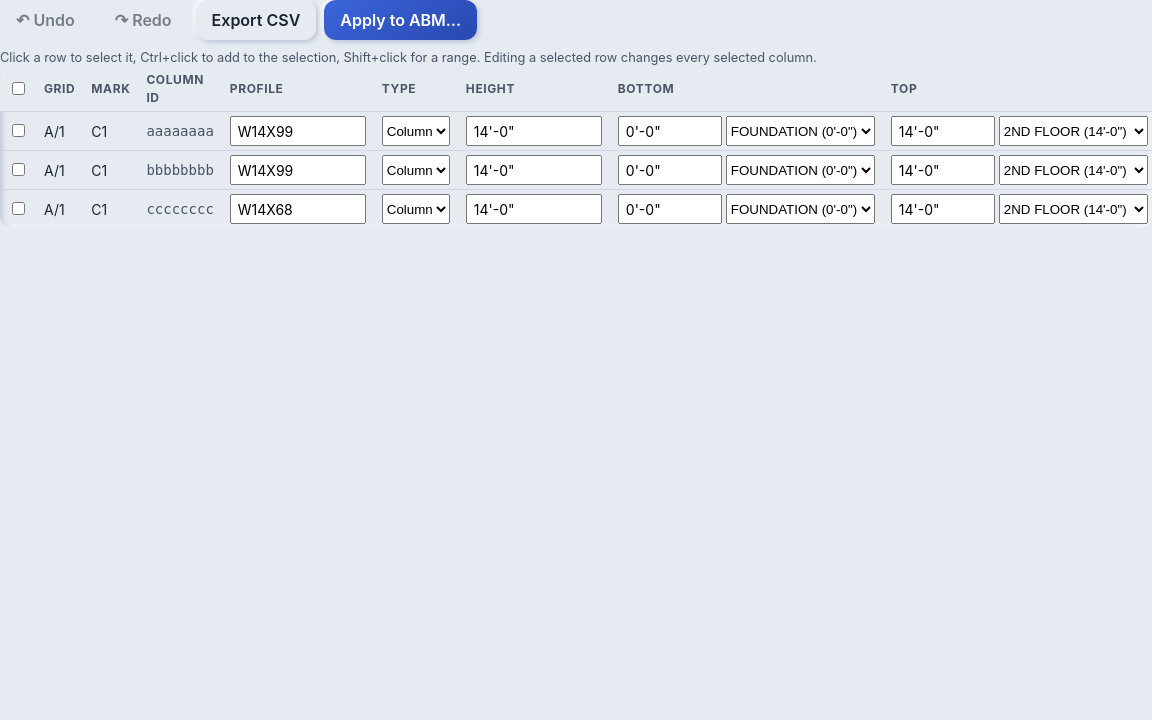
Test case: Column scheduler › applies the columns to the ABM after confirming
Click the button "Apply to ABM…" at {"x": 401, "y": 20}, box [324,0,477,40]
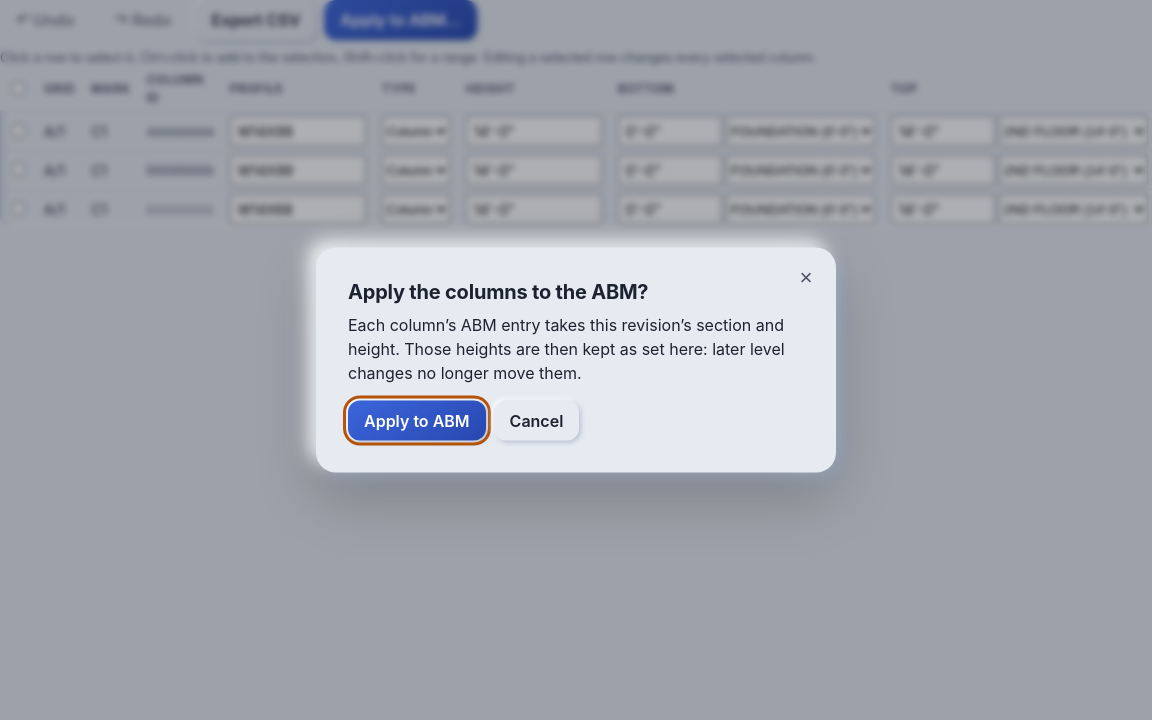
Click the button "Apply to ABM" at {"x": 417, "y": 420}, box [348,400,486,440]
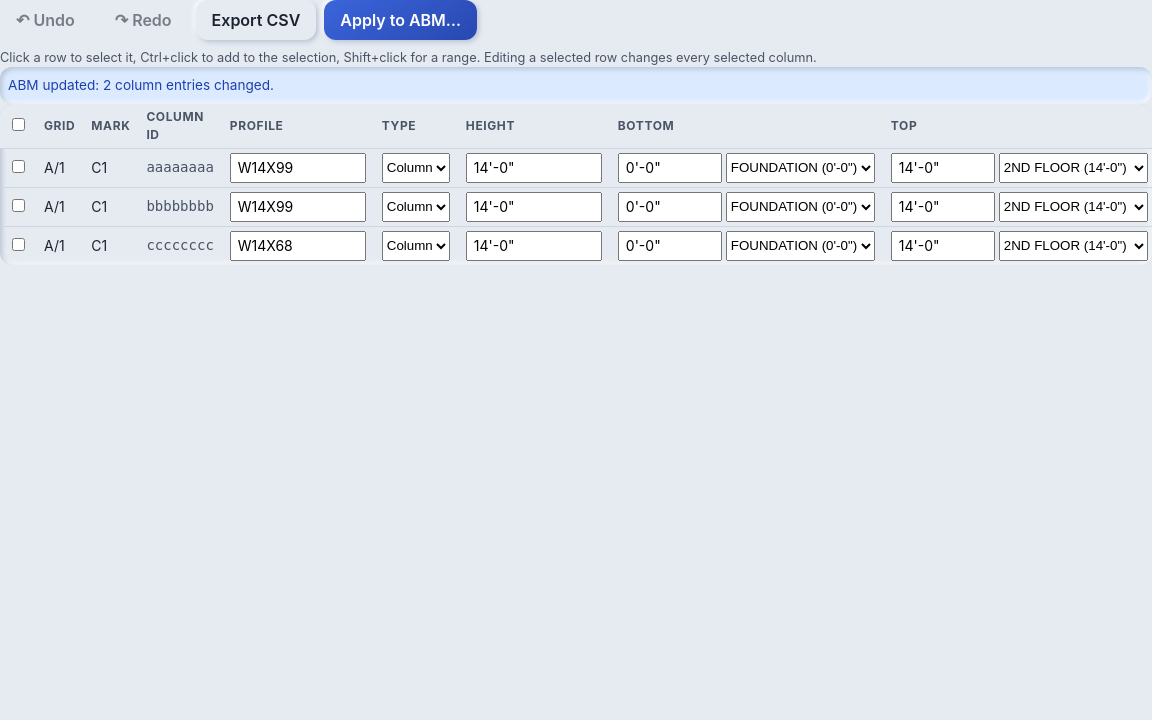
expect the text "ABM updated: 2 column entries changed." is shown: met, box [0,67,1151,104]
